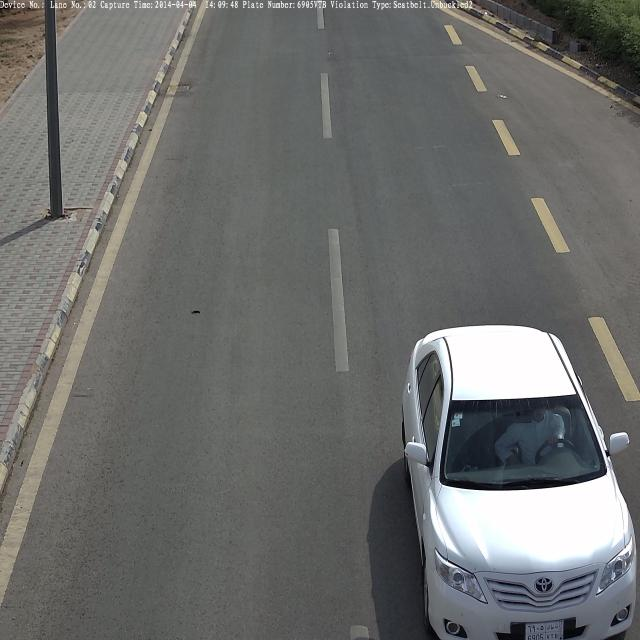person_without_seatbelt: (517, 402, 568, 464)
